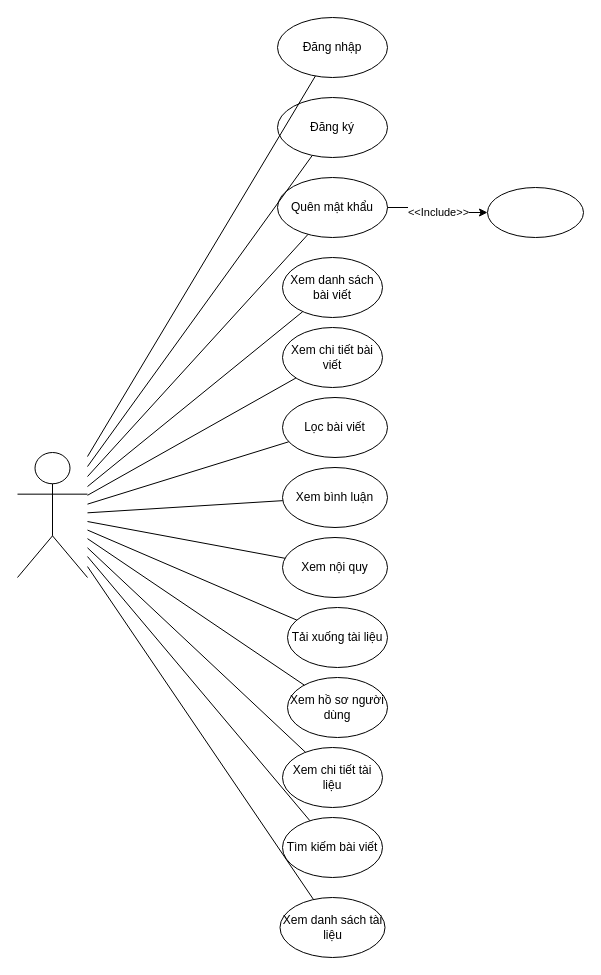
This 601x975 diagram has some shape labels left out. Each missing label, with the centre of its shape:
Guest: point (52, 515)
Gửi OTP (email): point (535, 212)
